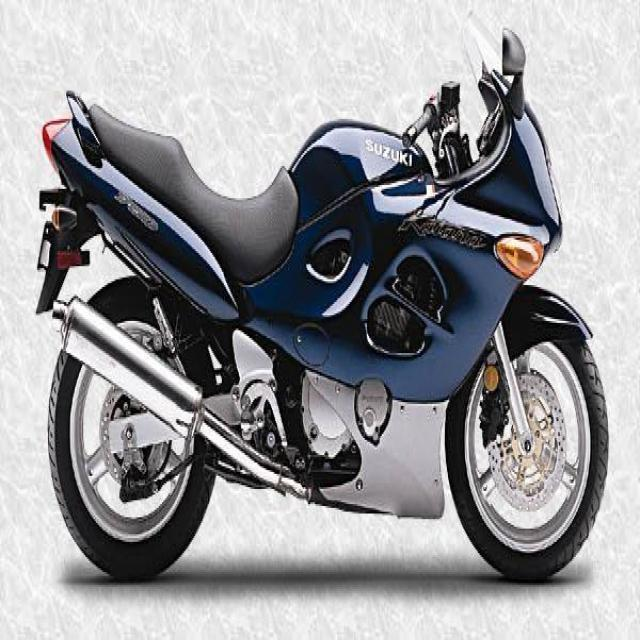Motorcycle: (21, 56, 609, 584)
